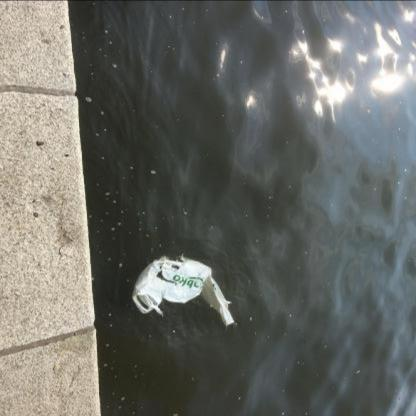Plastic bag - wrapper: (132, 252, 235, 326)
